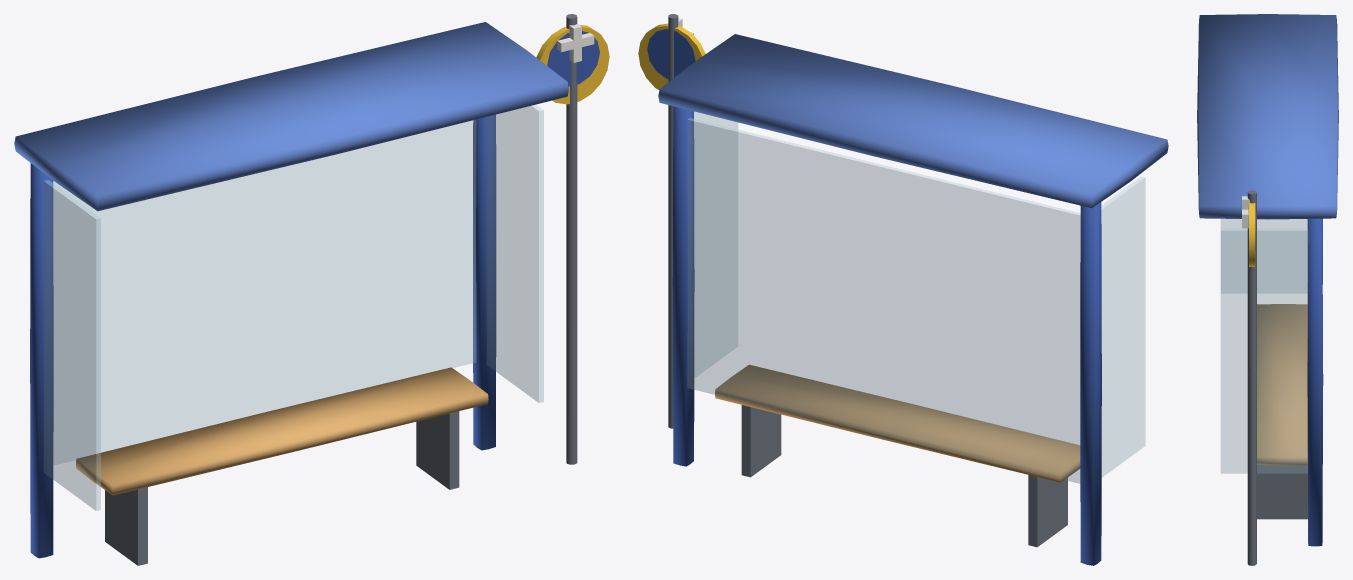
The model's file is bus_stop.glb.
3 views of the same model, side by side, from view 1: azimuth 30°, elevation 25°; view 2: azimuth 150°, elevation 25°; view 3: azimuth 270°, elevation 25° (orthographic). The views are drawn at different scales.
Visible parts, largest first — view 1: root; view 2: root; view 3: root.
Part boxes in pixels (x1,y1,x2,y2): root: [14, 14, 609, 565]; root: [638, 14, 1168, 565]; root: [1197, 14, 1338, 565].
Bounding box in the file's own units: 2.7 × 2.11 × 0.732.
